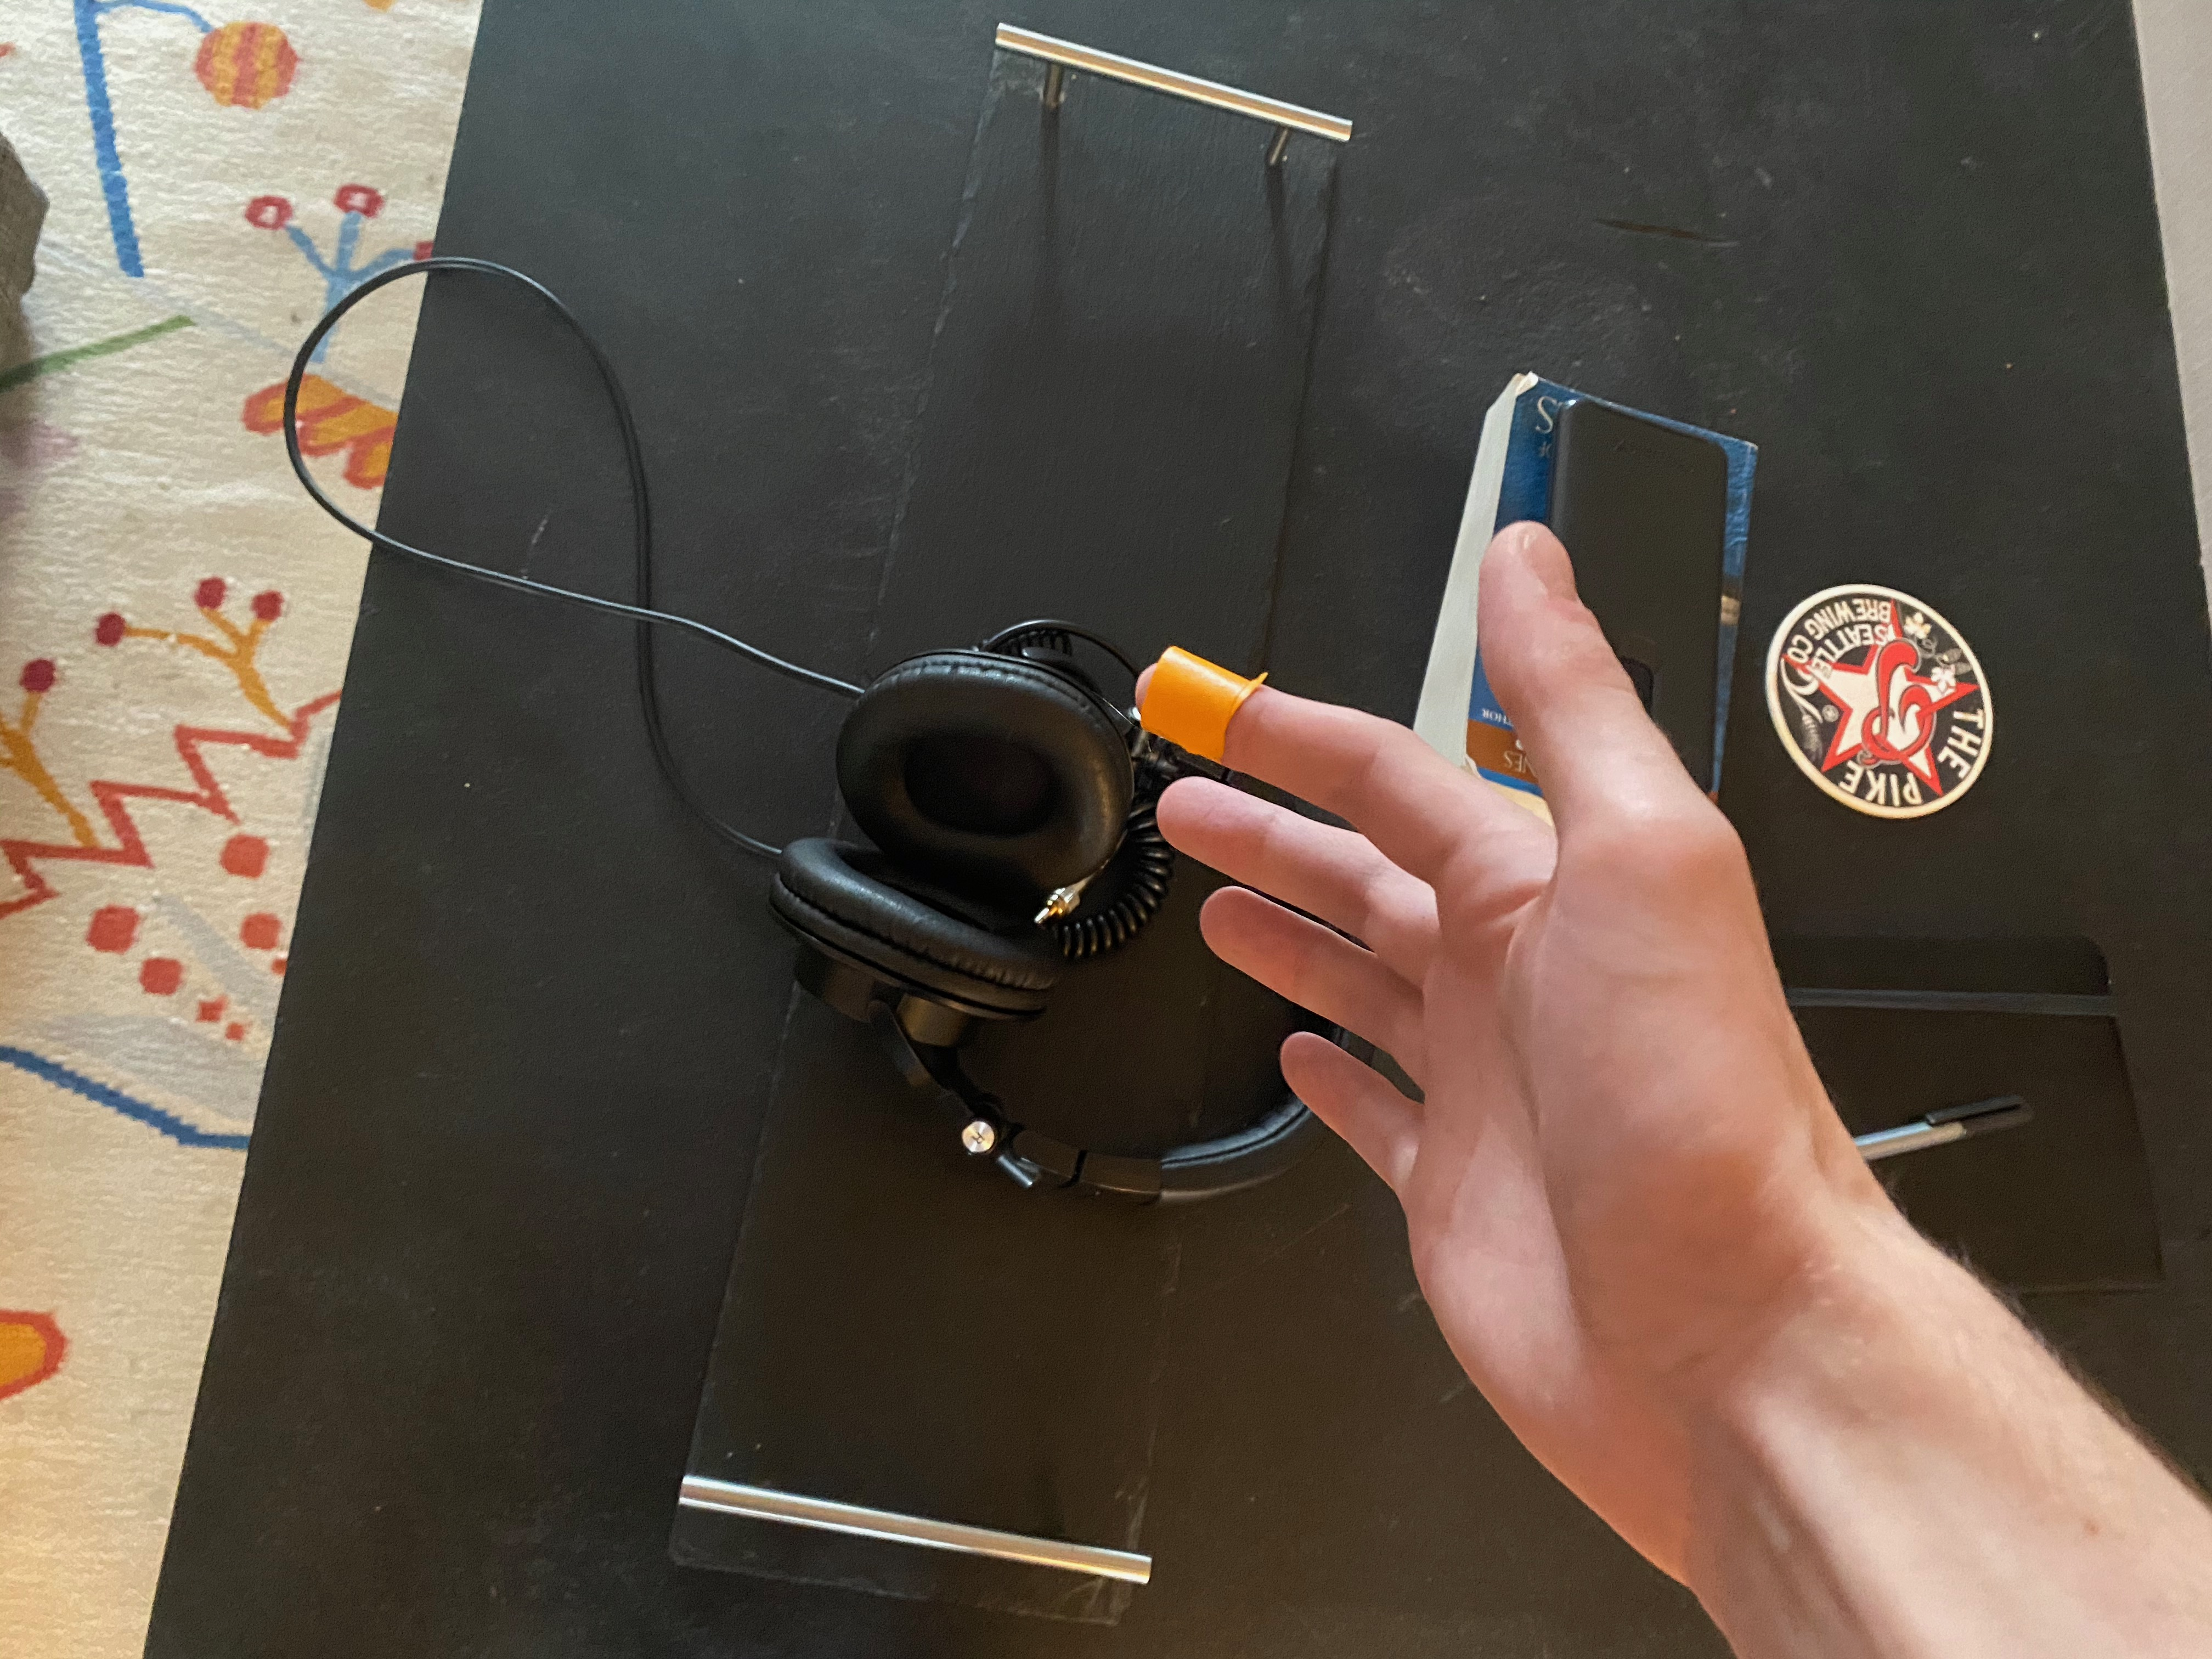fingertip: (1125, 631, 1273, 772)
